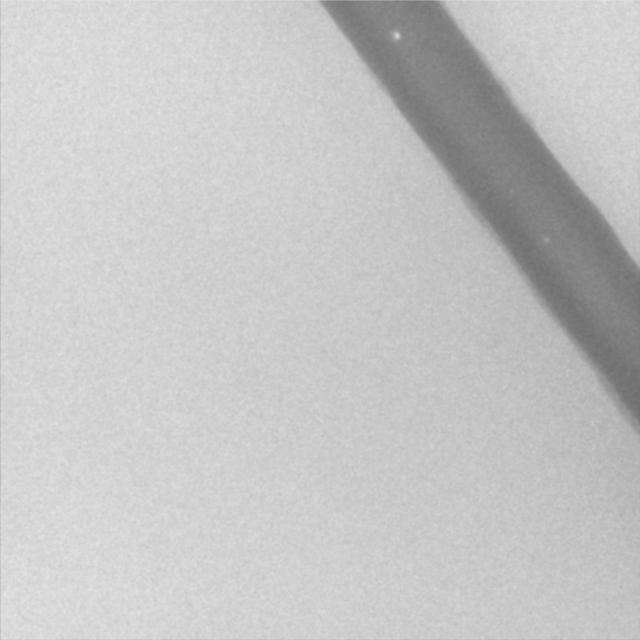air hole: (390, 29, 401, 41)
